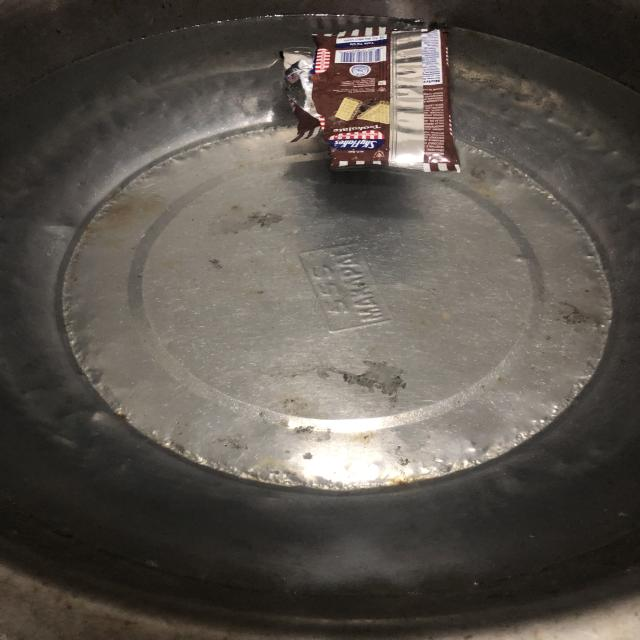Plastic Wrapper: (280, 27, 461, 173)
